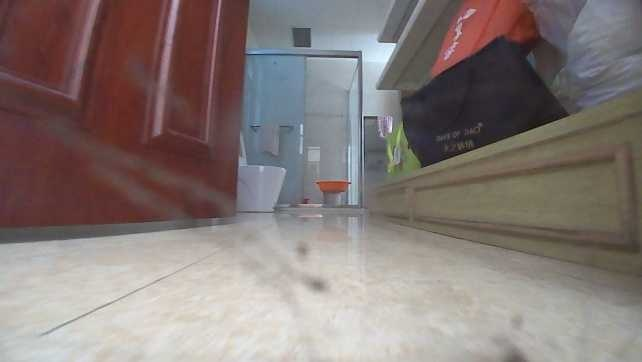toilet: (233, 128, 286, 212)
